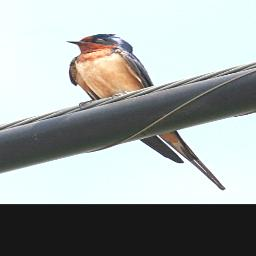Swallow: (66, 32, 227, 191)
